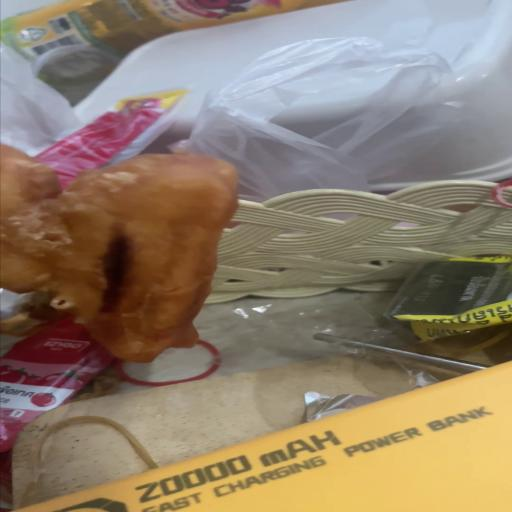street_burnt_defect: (0, 148, 237, 362)
